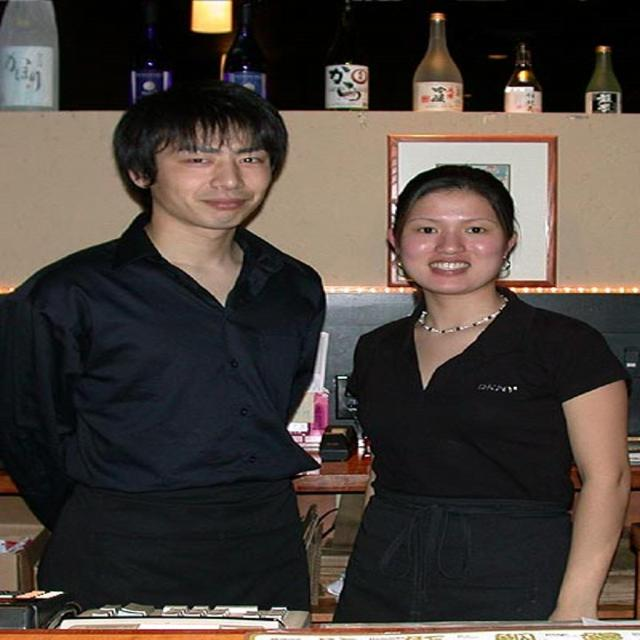nomask: (154, 116, 272, 226), (397, 191, 507, 293)
